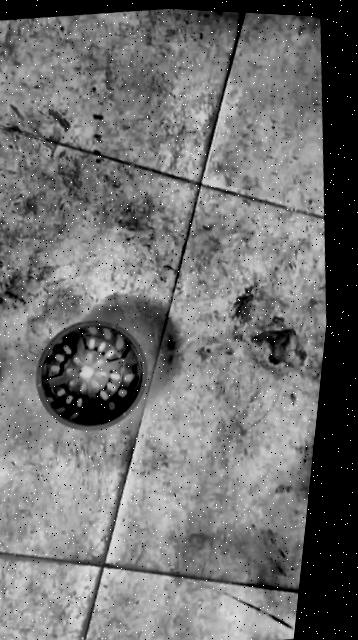pot: (23, 312, 158, 437)
